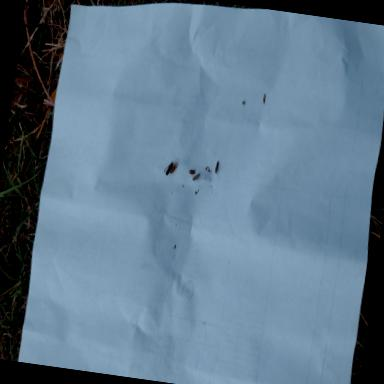pbw: (169, 156, 178, 174), (163, 160, 173, 176), (192, 172, 200, 181), (188, 170, 195, 176)
